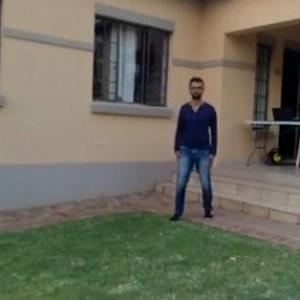follow: (172, 69, 219, 233)
